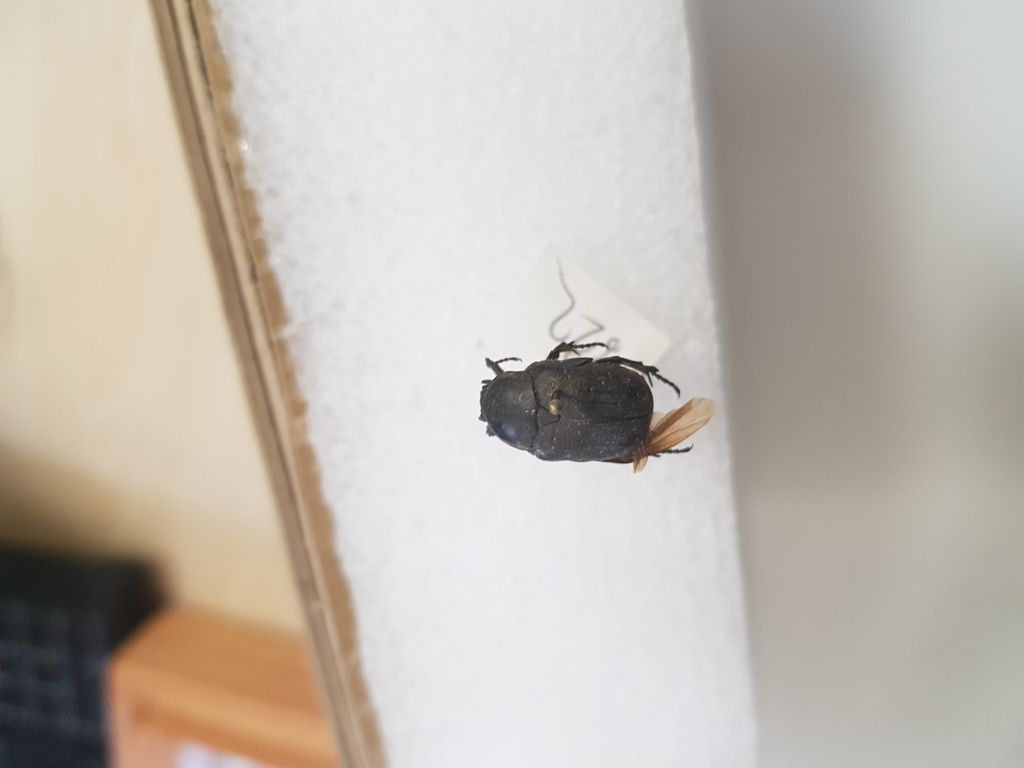Protaetia_asiatica: (460, 337, 720, 472)
